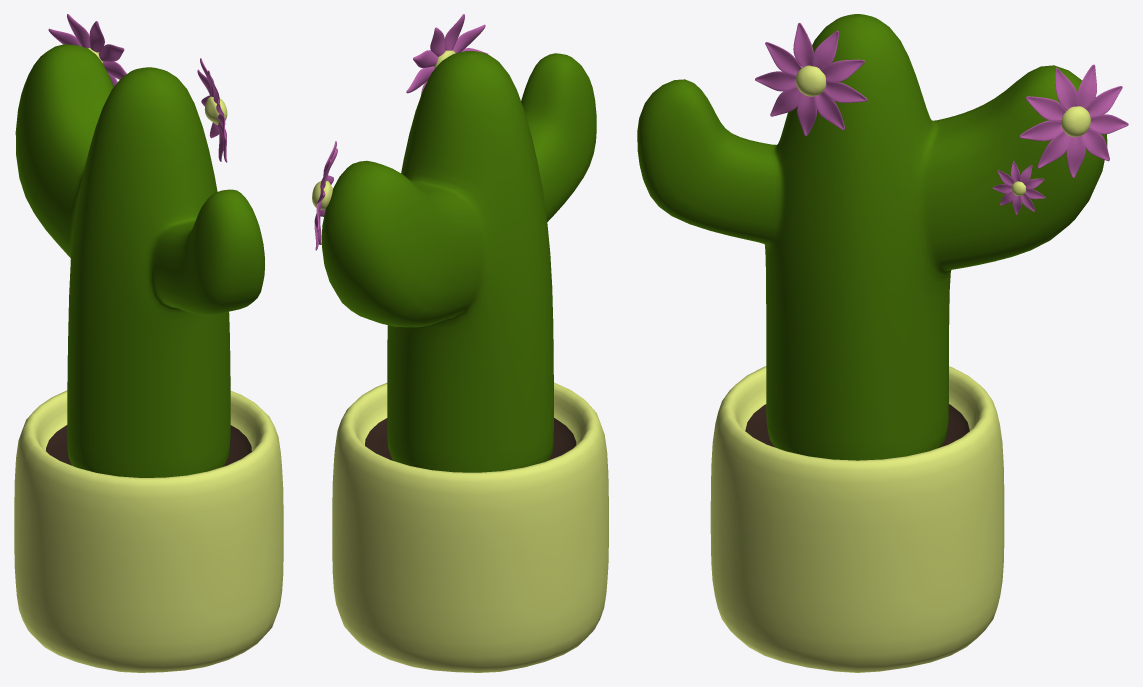
Rendered from Cactie.fbx.
The picture shows the model from 3 angles, left to right: view 1: azimuth 30°, elevation 25°; view 2: azimuth 150°, elevation 25°; view 3: azimuth 270°, elevation 25°; orthographic projection. The views are drawn at different scales.
Parts seen in each view (by area): view 1: Cube, PlantPot.003; view 2: Cube, PlantPot.003; view 3: Cube, PlantPot.003, Circle.015, Circle.016.
Part boxes in pixels (<box>): Cube: <box>15,44,264,477</box>; PlantPot.003: <box>14,390,283,672</box>; Cube: <box>322,51,596,472</box>; PlantPot.003: <box>332,382,608,672</box>; Cube: <box>637,14,1107,460</box>; PlantPot.003: <box>710,366,1004,672</box>; Circle.015: <box>795,65,826,96</box>; Circle.016: <box>1061,106,1090,136</box>.
Bounding box in the file's own units: 70.38 × 166 × 118.
